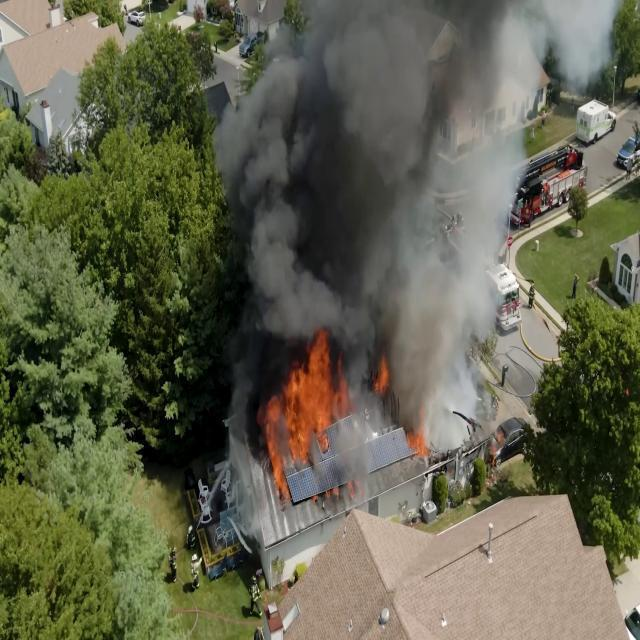Fire: (250, 322, 352, 451)
Smoke: (251, 32, 418, 302), (386, 126, 441, 400)
